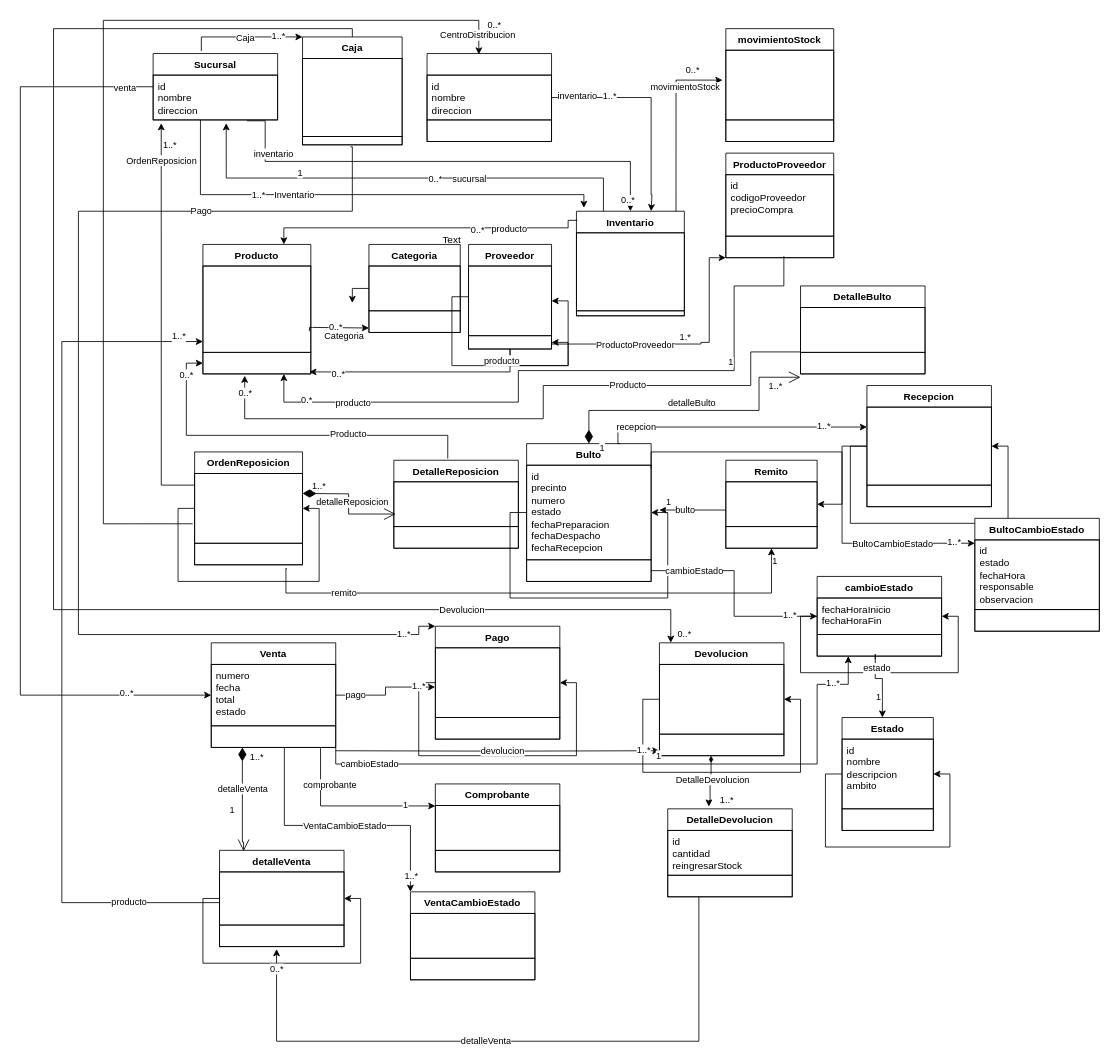
This 1114x1062 diagram has some shape labels left out. The box of each missing label's shape, as (x1, y1, x2, y2) in pixels:
cantidad precioUnitario costoUnitario subtotal: (219, 871, 344, 925)
cantidadSolicitada cantidadPreparada: (393, 481, 518, 527)
CentroDistribución: (426, 53, 552, 142)
id cantidad: (800, 307, 925, 352)
id codigo nombre precioVenta costo activo: (202, 265, 311, 352)
id cuit nombre direccion activo: (468, 265, 552, 336)
id estado fechaHora: (410, 913, 535, 958)
id fecha precintoIntegro observaciones resultado responsable: (866, 406, 991, 485)
id fechaApertura fechaCierre montoInicial estado: (302, 58, 402, 137)
id importe fecha medio estado: (435, 647, 560, 718)
id nombre descripcion: (368, 265, 460, 311)
id stockFisico stockDisponible stockReservado stockMinimo: (576, 232, 684, 311)
id tipo cantidad costoUnitario fechaHora: (725, 49, 834, 120)
numero fecha estado origen destino: (194, 473, 303, 543)
numero fecha motivo estado importe: (659, 664, 784, 734)
numero fechaEmision estado: (725, 481, 817, 527)
numero fechaEmision tipo: (435, 805, 560, 850)
